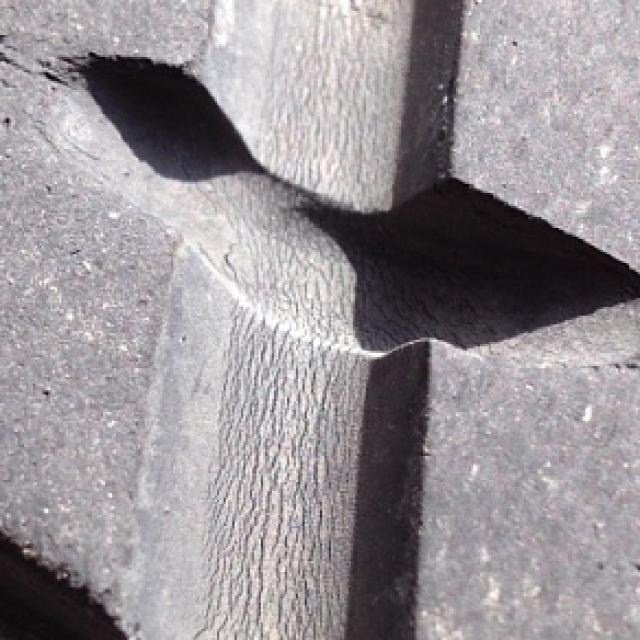Cracks: (179, 0, 421, 638), (0, 0, 99, 192), (514, 328, 640, 399)
